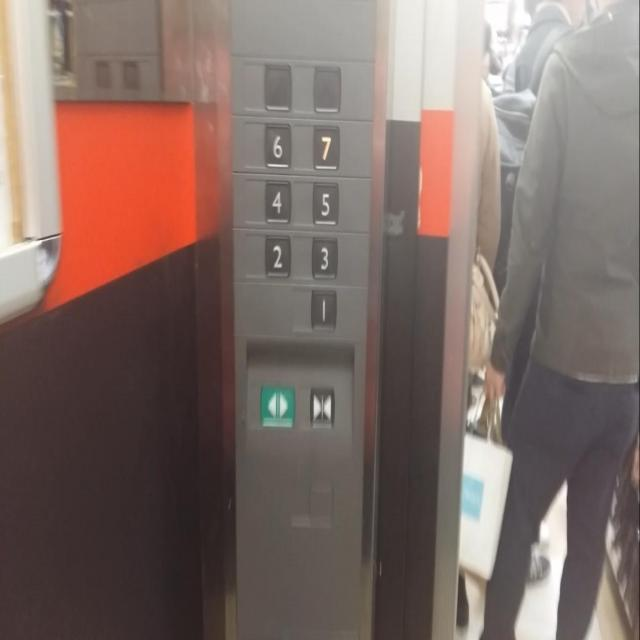1: (309, 286, 338, 333)
2: (263, 232, 292, 281)
3: (309, 232, 339, 281)
4: (264, 176, 292, 226)
5: (311, 178, 340, 228)
6: (262, 119, 292, 172)
7: (311, 122, 342, 172)
close: (308, 384, 337, 430)
empty: (264, 60, 294, 112), (312, 63, 342, 115)
open: (258, 382, 297, 430)
